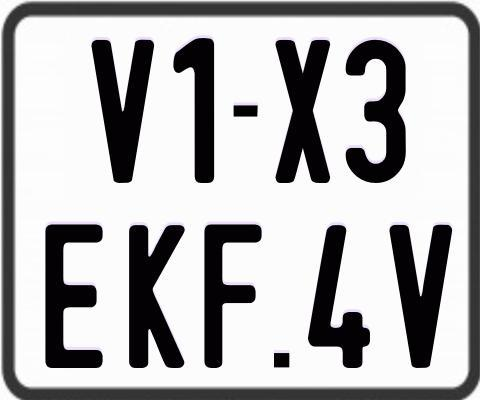1: (172, 38, 213, 184)
3: (346, 37, 407, 183)
4: (305, 222, 368, 371)
E: (43, 221, 103, 365)
F: (201, 222, 262, 369)
K: (127, 225, 184, 370)
V: (388, 224, 456, 372), (91, 38, 159, 182)
X: (276, 38, 336, 183)
